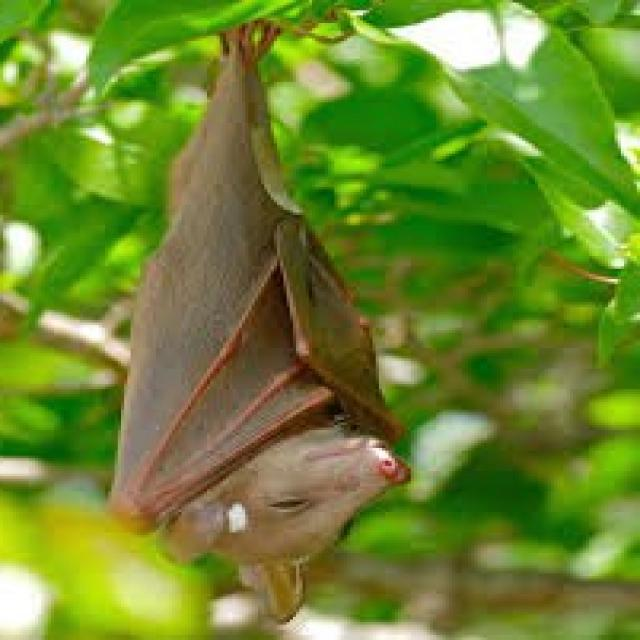bat: (115, 20, 411, 622)
